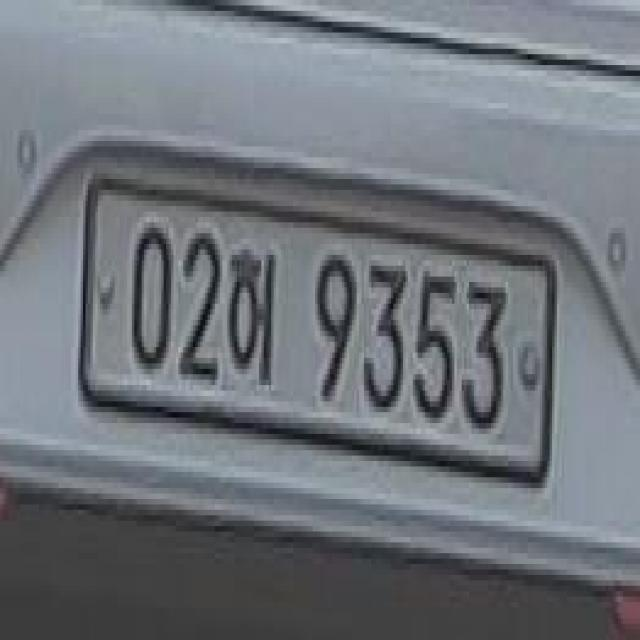illegal_plate: (80, 160, 555, 503)
